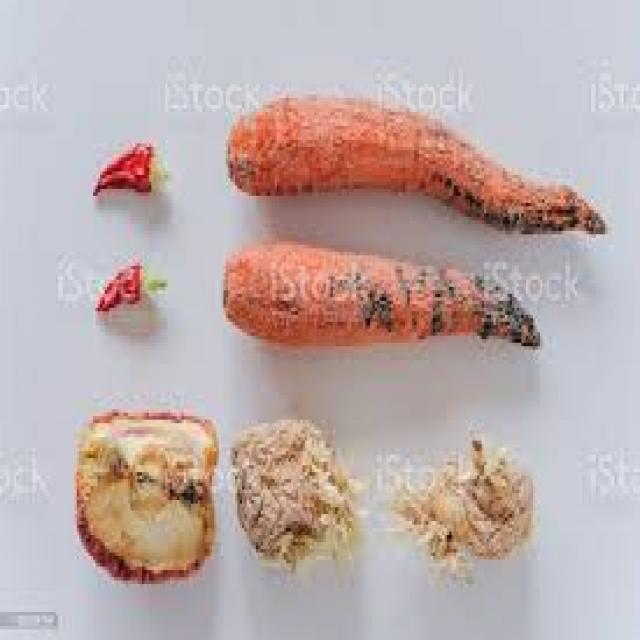organic waste: (223, 91, 603, 231), (221, 238, 538, 346), (70, 402, 219, 584), (230, 412, 361, 566), (419, 426, 528, 566), (91, 140, 170, 196), (96, 262, 166, 312)
